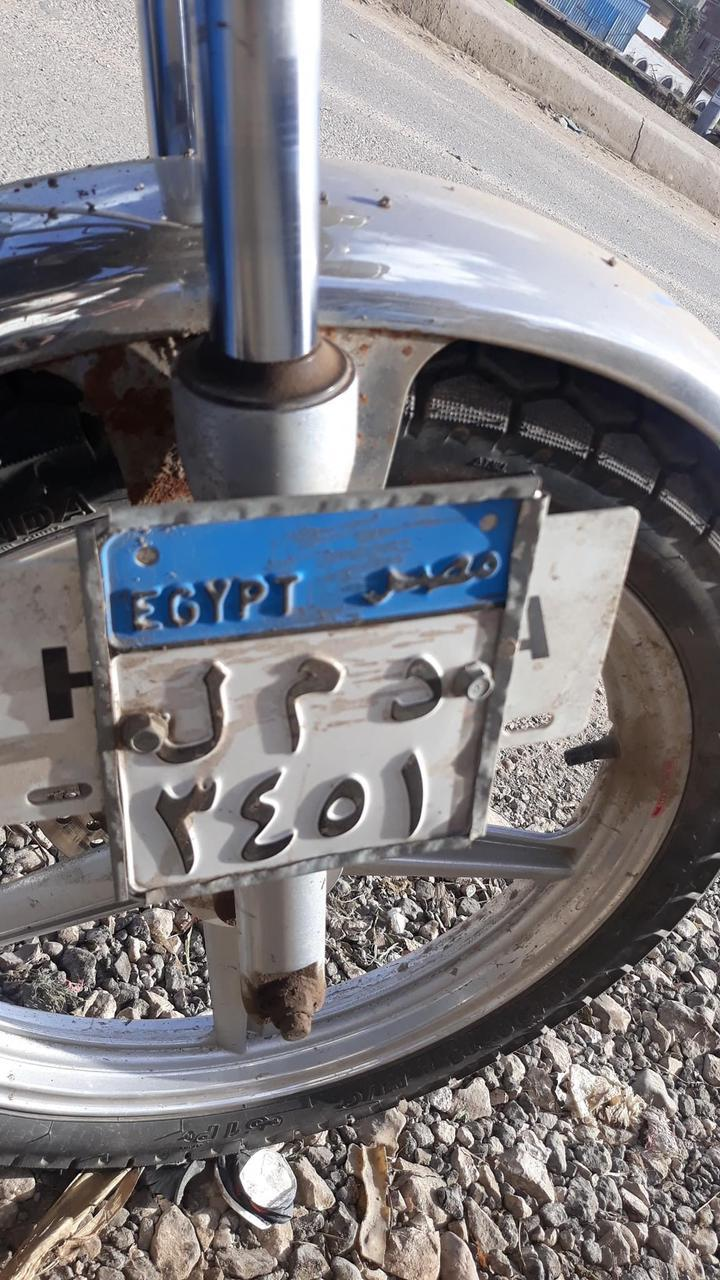License Plate: (100, 498, 523, 880)
